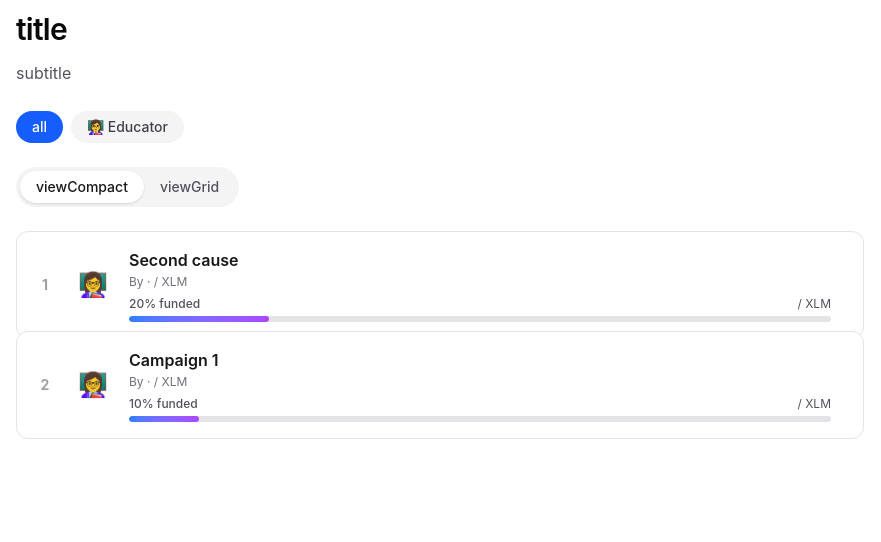
Test case: ExplorePage layout toggle › switches to the grid and remembers the choice
Click the button "viewGrid".
click(190, 187)  # box [144,171,235,203]
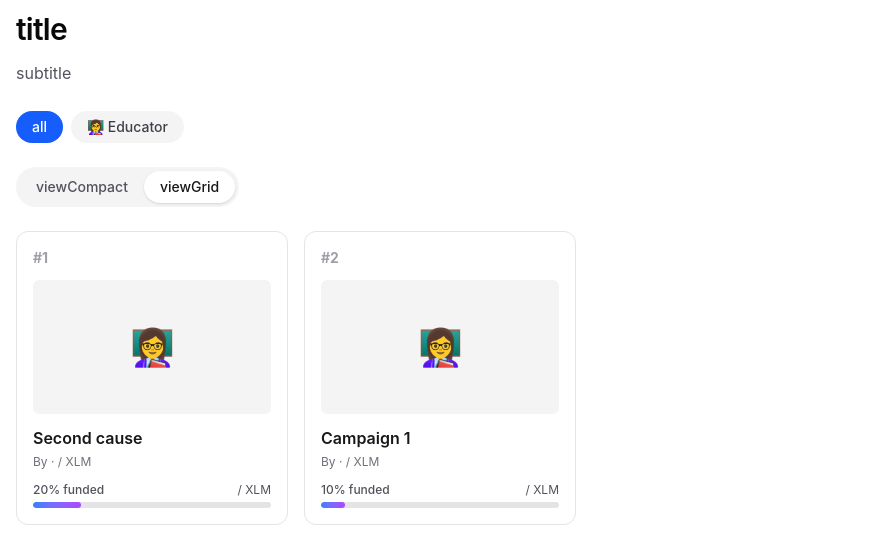
Expected: the link "Second cause" is shown, [16,231,288,525]
Now the text "#1" is shown, box [33,248,48,268]
